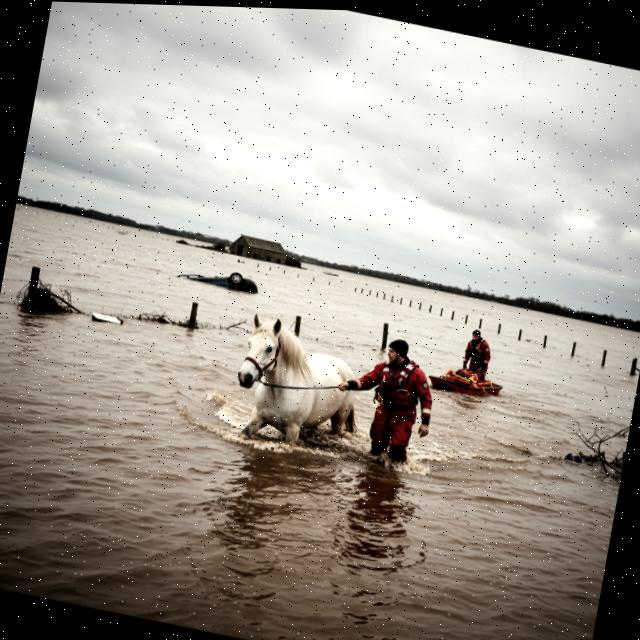horse: (216, 300, 380, 467)
rescuer: (324, 318, 456, 489), (453, 323, 507, 396)
